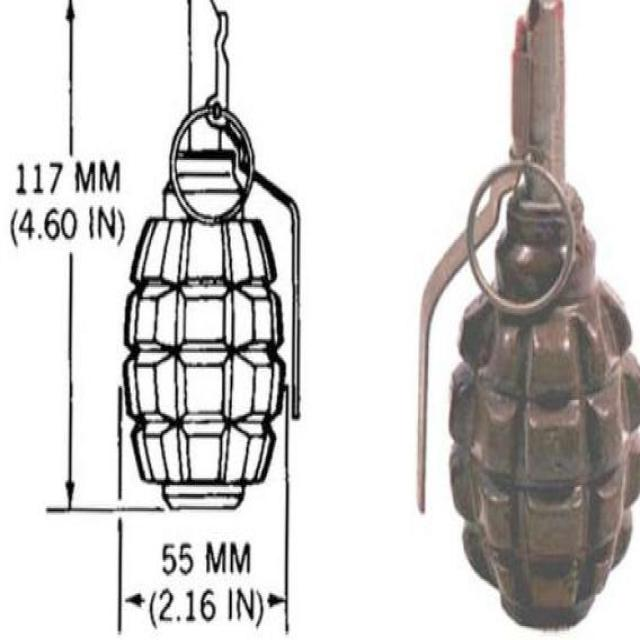grenade: (419, 1, 640, 636), (123, 1, 302, 514)
